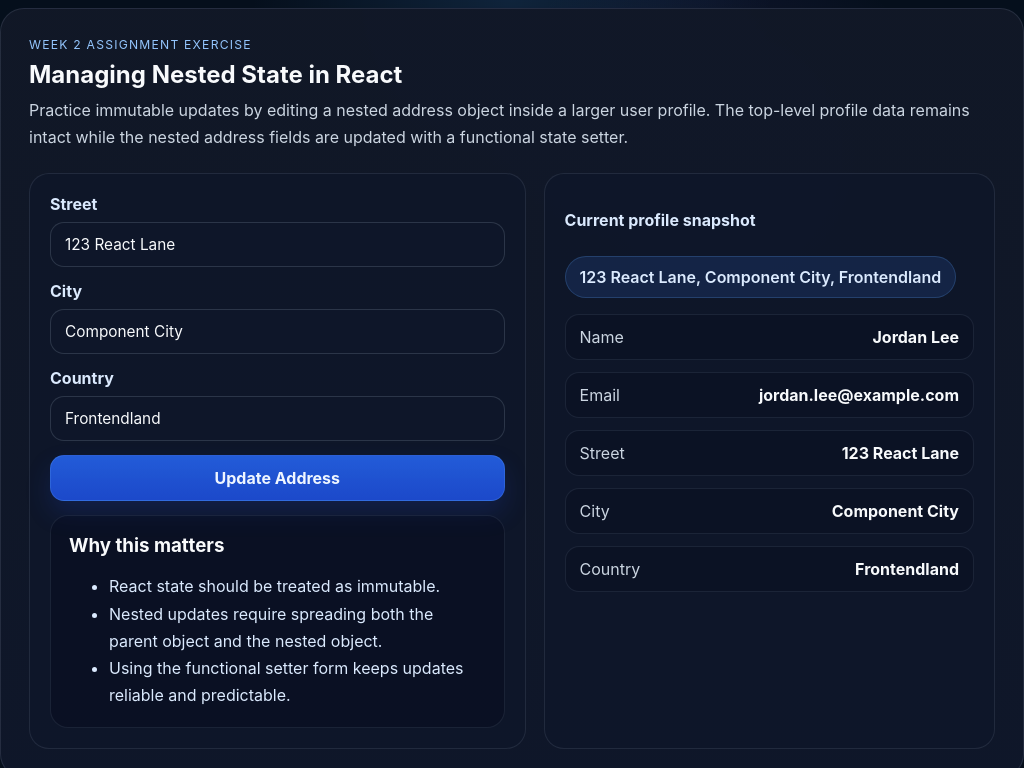
UserProfile standalone exercise › edge: the profile summary stays aligned with the rendered nested fields
Replace the text in the field with test id "street-input" with "78 Immutable Ave" at (277, 245), box [50,222,505,267]
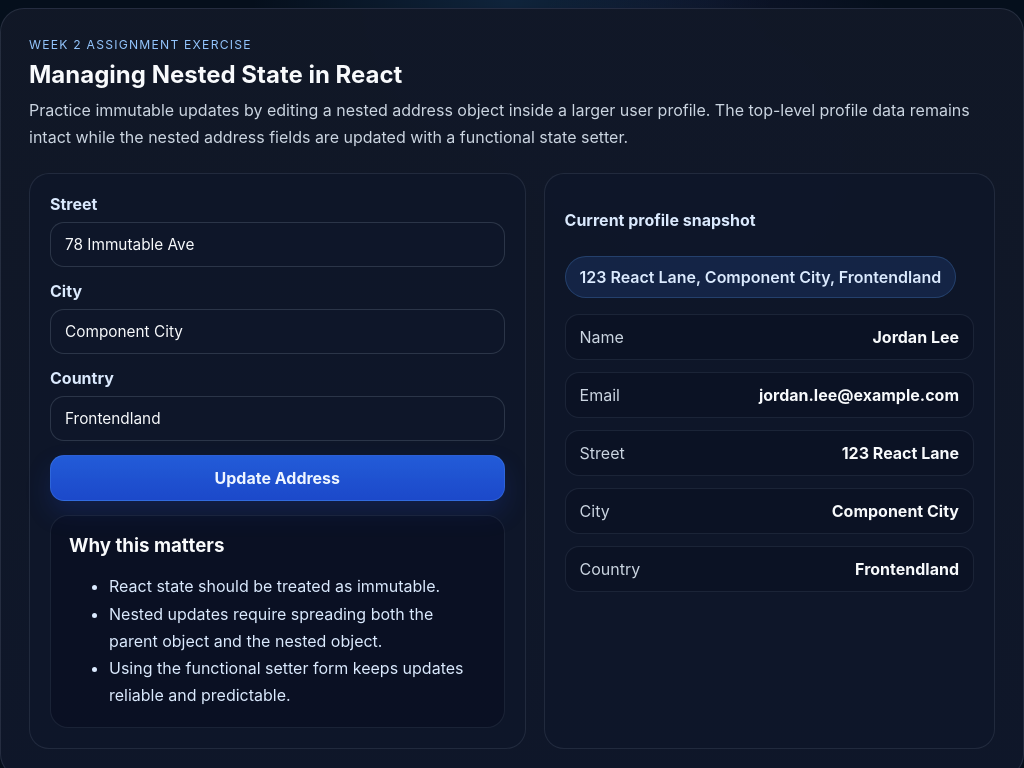
Replace the text in the field with test id "city-input" with "Spread City" at (277, 332), box [50,309,505,354]
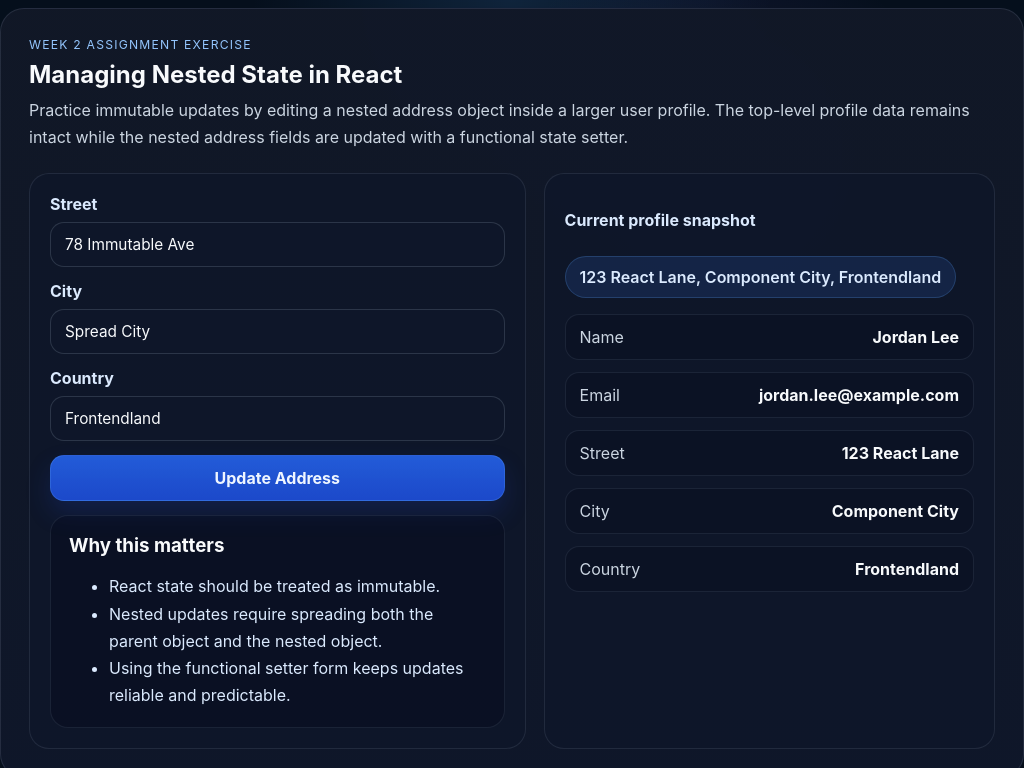
Replace the text in the field with test id "country-input" with "Functional State" at (277, 419), box [50,396,505,441]
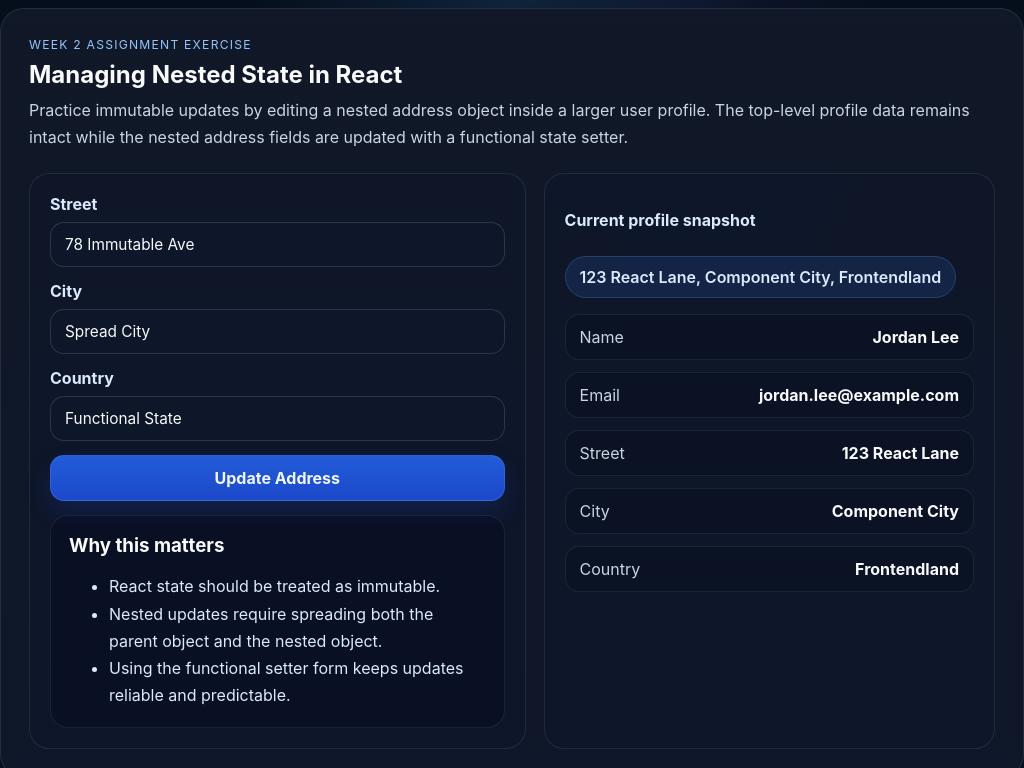
Click the button "Update Address" at (277, 478), box [50,455,505,501]
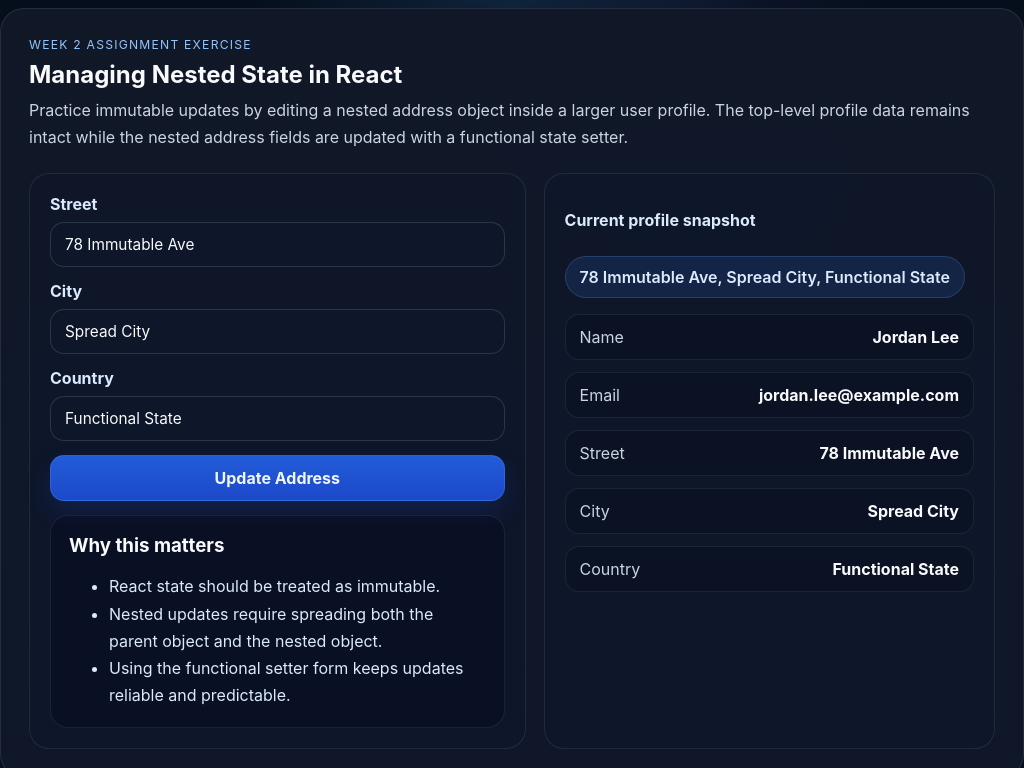
Check: the text with test id "profile-summary" reads "78 Immutable Ave, Spread City, Functional State", box [580,267,950,287]
Check: the text with test id "profile-street" reads "78 Immutable Ave", box [819,443,959,463]
Check: the text with test id "profile-city" reads "Spread City", box [867,501,959,521]
